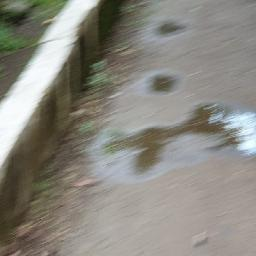water accumulation: (100, 103, 256, 175), (149, 73, 177, 94), (153, 22, 185, 35)
